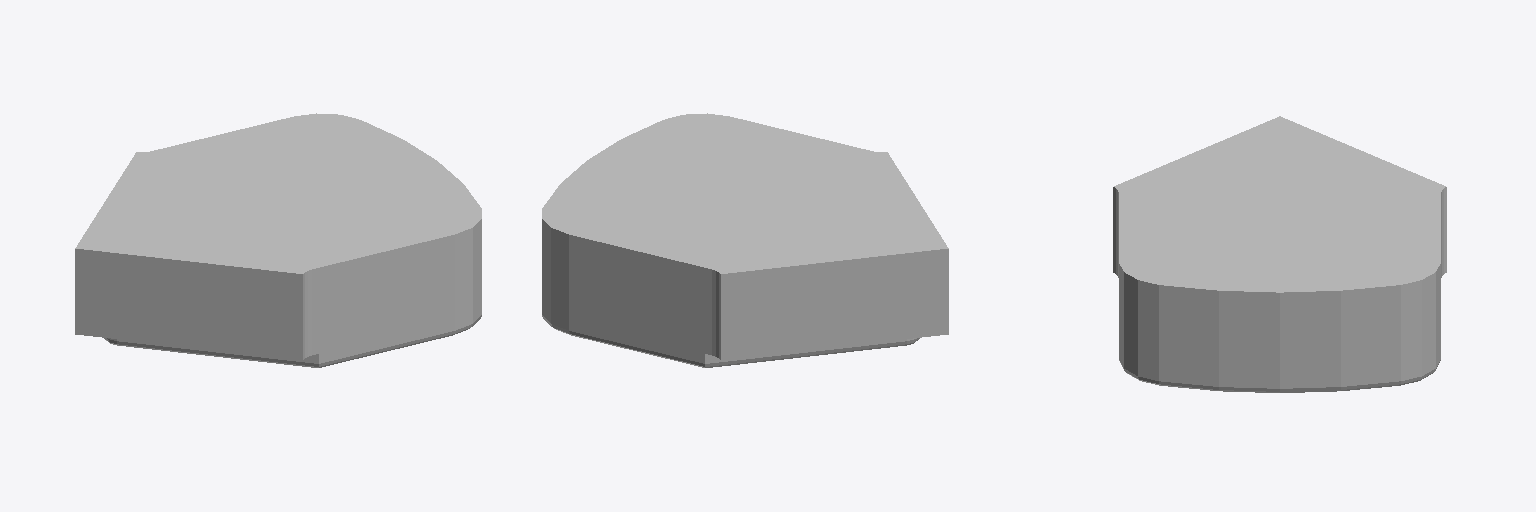
File: DPadRight.obj
The picture shows the model from 3 angles: view 1: azimuth 30°, elevation 25°; view 2: azimuth 150°, elevation 25°; view 3: azimuth 270°, elevation 25°; orthographic projection.
Parts seen in each view (by area): view 1: DPadRight; view 2: DPadRight; view 3: DPadRight.
Part boxes in pixels (x1,y1,x2,y2): DPadRight: (75,113,481,367); DPadRight: (542,113,948,367); DPadRight: (1113,116,1446,392).
Size of the model in its own units: 11 by 3 by 8.79.